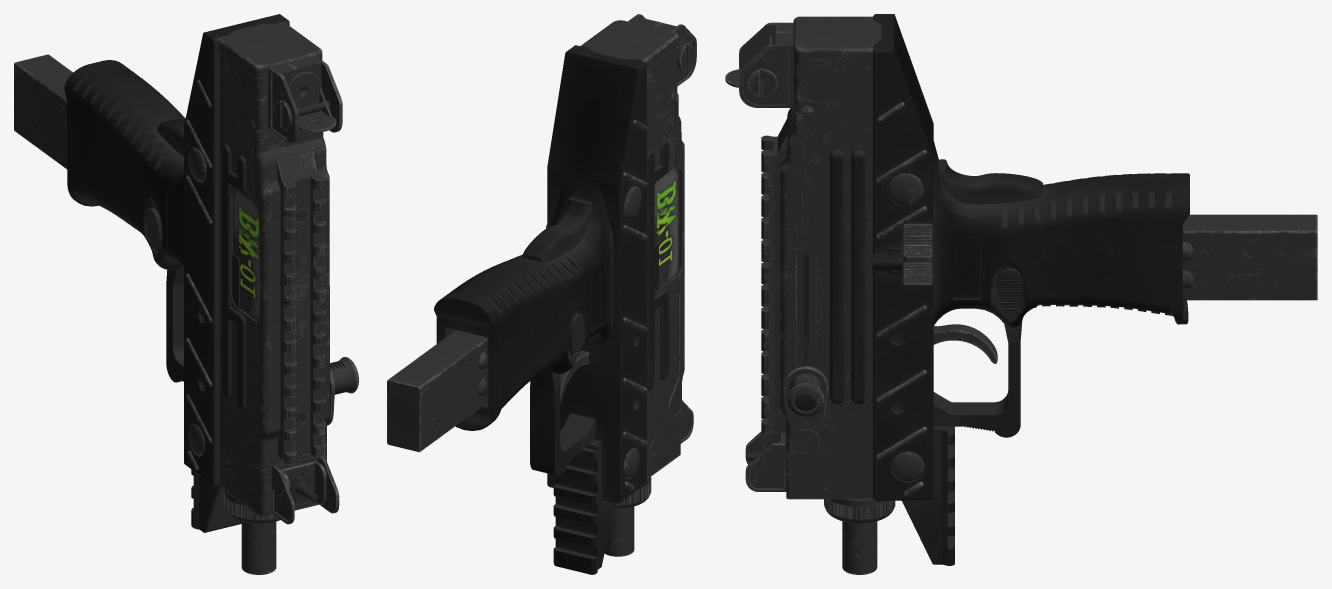
Rendered from UZI.glb.
3 renders of one model, left to right at view 1: azimuth 30°, elevation 25°; view 2: azimuth 150°, elevation 25°; view 3: azimuth 270°, elevation 25°, orthographic. The views are drawn at different scales.
Parts seen in each view (by area): view 1: UZI; view 2: UZI; view 3: UZI.
Part boxes in pixels (left/top/right/bottom): UZI: left=14, top=14, right=358, bottom=574; UZI: left=387, top=14, right=696, bottom=574; UZI: left=725, top=14, right=1317, bottom=574.
Bounding box in the file's own units: 19.47 × 90.84 × 91.08.
1 material, 1 textured.
